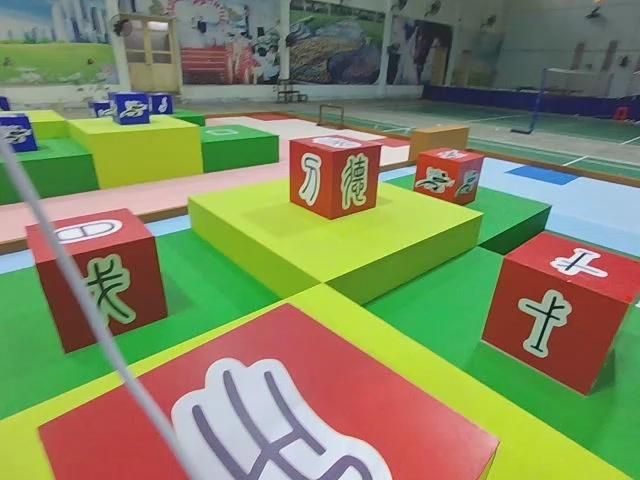R1: (411, 144, 488, 208)
R2 Fake: (35, 300, 503, 480), (23, 205, 171, 355), (286, 131, 384, 222)
R2 Real: (479, 228, 640, 397)
